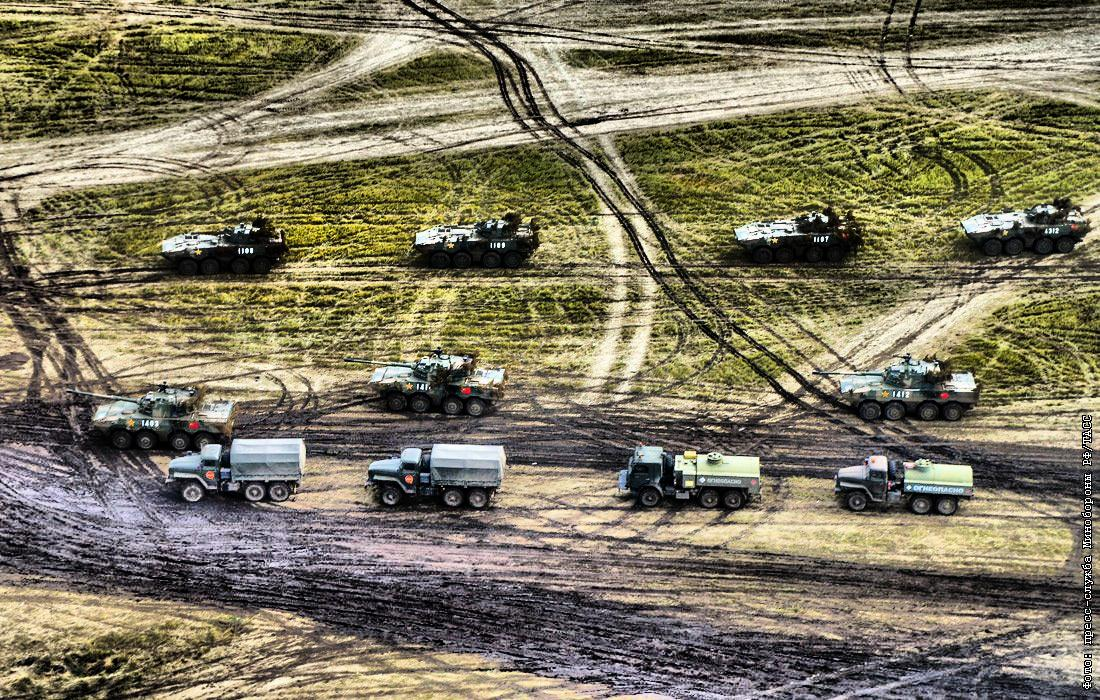military-vehicle: (813, 357, 982, 424), (344, 349, 508, 417), (67, 383, 232, 450), (164, 437, 306, 506), (366, 442, 508, 507), (961, 200, 1092, 257), (731, 209, 860, 266), (160, 224, 286, 278), (411, 216, 538, 269)
